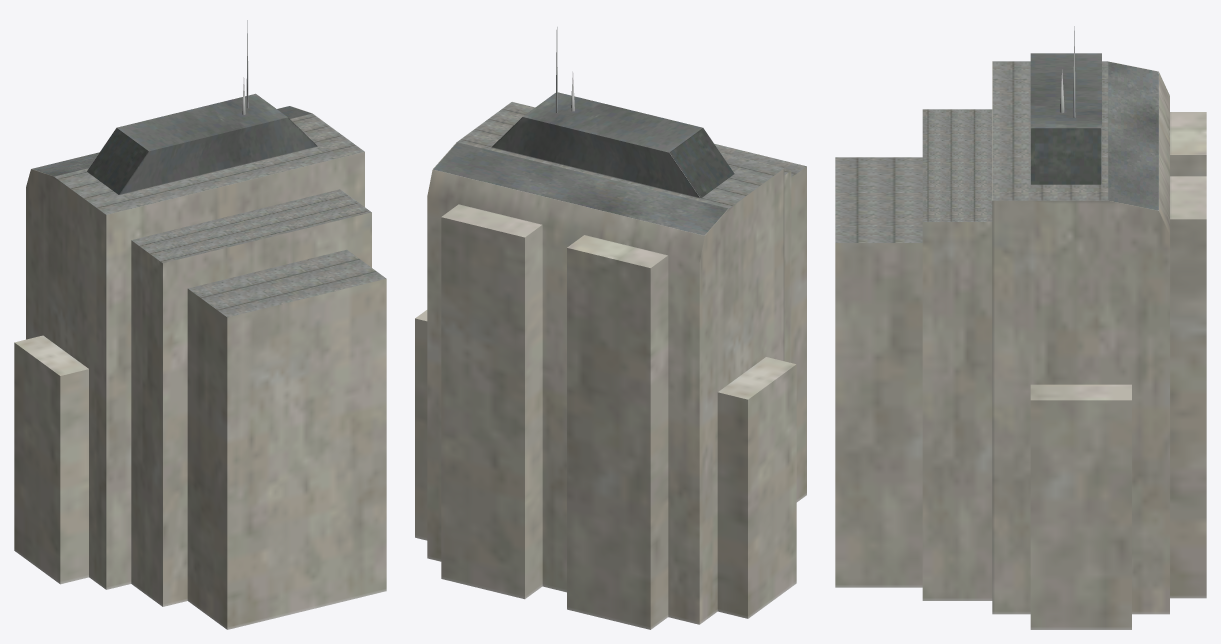
The model's file is thm_corl_imprv_building_s04_r0_mesh_l4.fbx.
3 renders of one model, left to right at view 1: azimuth 30°, elevation 25°; view 2: azimuth 150°, elevation 25°; view 3: azimuth 270°, elevation 25°, orthographic. The views are drawn at different scales.
Parts seen in each view (by area): view 1: mesh_node; view 2: mesh_node; view 3: mesh_node.
Part boxes in pixels (<box>): mesh_node: <box>14,20,386,629</box>; mesh_node: <box>415,27,806,629</box>; mesh_node: <box>835,26,1206,629</box>.
Bounding box in the file's own units: 63.59 × 97 × 58.59.
Materials: 1 (1 with a texture image).
